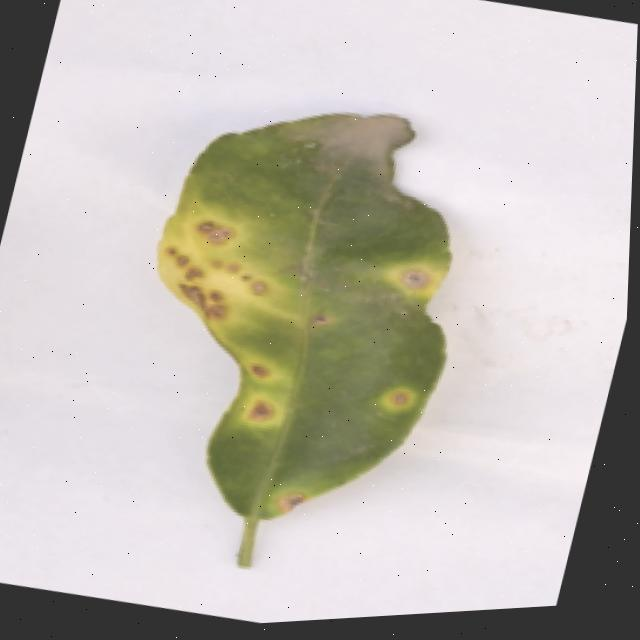canker: (157, 111, 449, 562), (117, 172, 299, 350), (211, 337, 301, 461), (389, 241, 448, 317), (258, 474, 320, 533), (379, 376, 421, 424)
